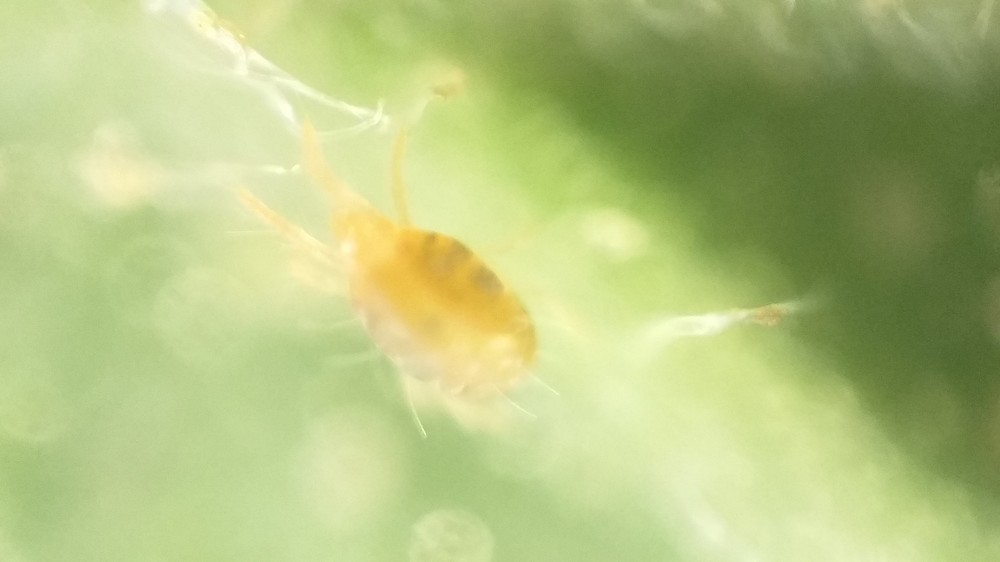Aracnido Rojo: (226, 131, 614, 466)
